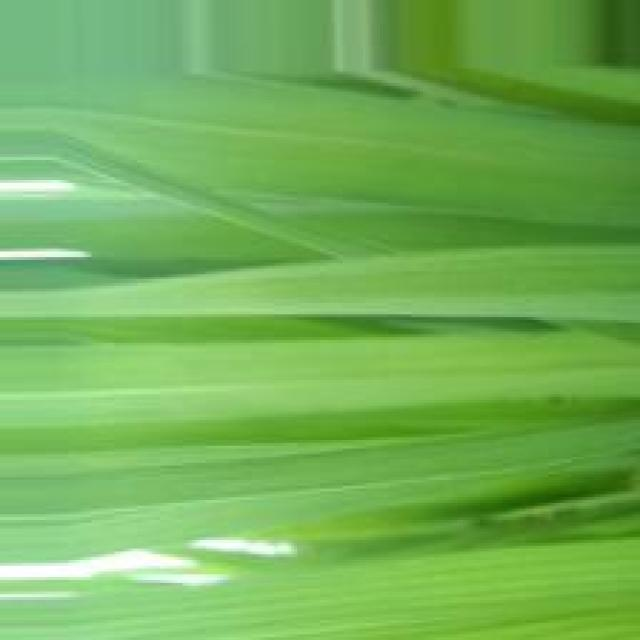HealthyLeaf: (0, 296, 630, 473), (133, 101, 624, 250)
